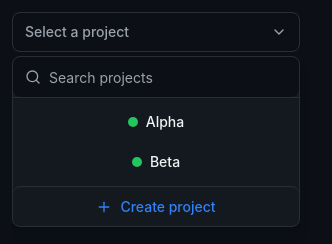
ProjectPicker – open state › filters by search
The image size is (332, 244).
expect the option "Alpha" is shown: met, box top-left (13, 102), bottom-right (299, 142)
In the field labelled "Search projects": (156, 77) top-left (13, 57), bottom-right (299, 97), type "alph"
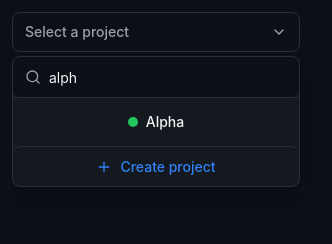
expect the option "Alpha" is shown: met, box top-left (13, 102), bottom-right (299, 142)
expect the option "Beta" is gone: met
